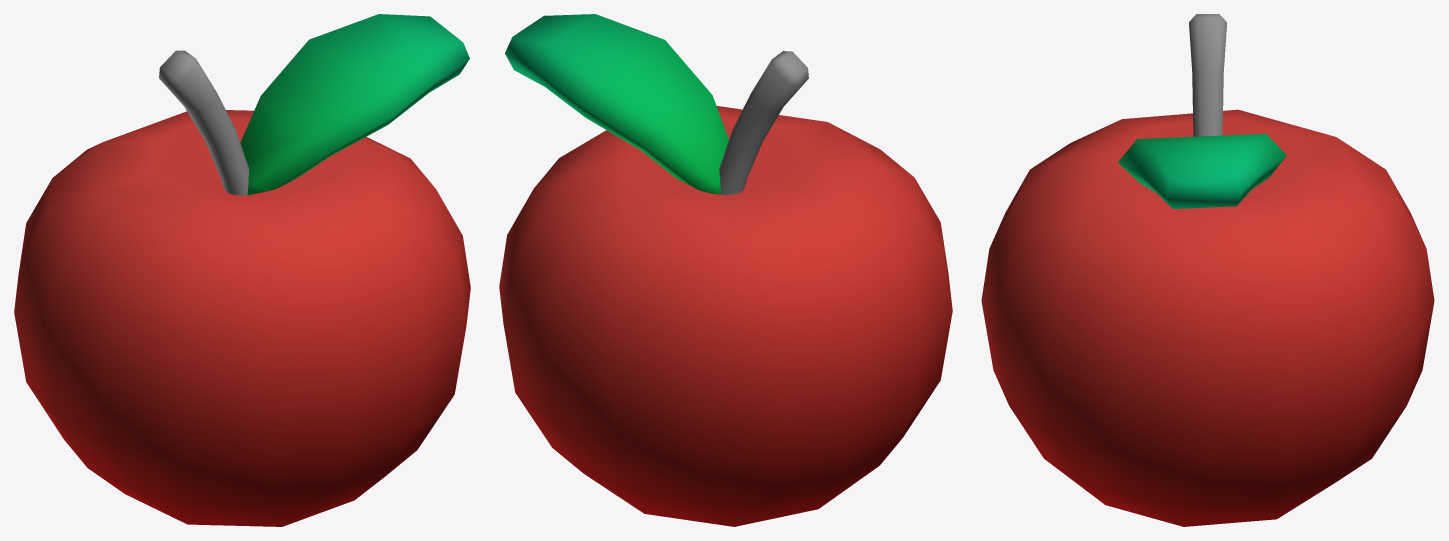
File: apple_001.glb
3 renders of one model, left to right at view 1: azimuth 30°, elevation 25°; view 2: azimuth 150°, elevation 25°; view 3: azimuth 270°, elevation 25°, orthographic.
Visible parts, largest first — view 1: apple_001; view 2: apple_001; view 3: apple_001.
Part boxes in pixels (x1=…): apple_001: x1=14, y1=14, x2=470, y2=526; apple_001: x1=499, y1=14, x2=952, y2=526; apple_001: x1=981, y1=14, x2=1434, y2=526.
Size of the model in its own units: 0.7826 by 0.8415 by 0.7664.
Materials: 1 (1 with a texture image).
